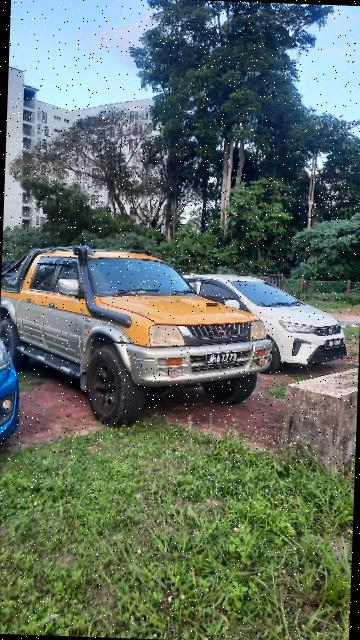License_Plate: (204, 351, 243, 369), (327, 336, 351, 351)
car: (1, 242, 279, 431), (170, 269, 360, 375)
